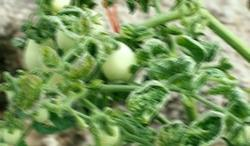Tomato leaf yellow virus: (122, 80, 172, 123), (119, 34, 168, 70), (178, 109, 225, 146), (15, 72, 43, 123), (142, 53, 192, 77), (155, 120, 191, 146)
